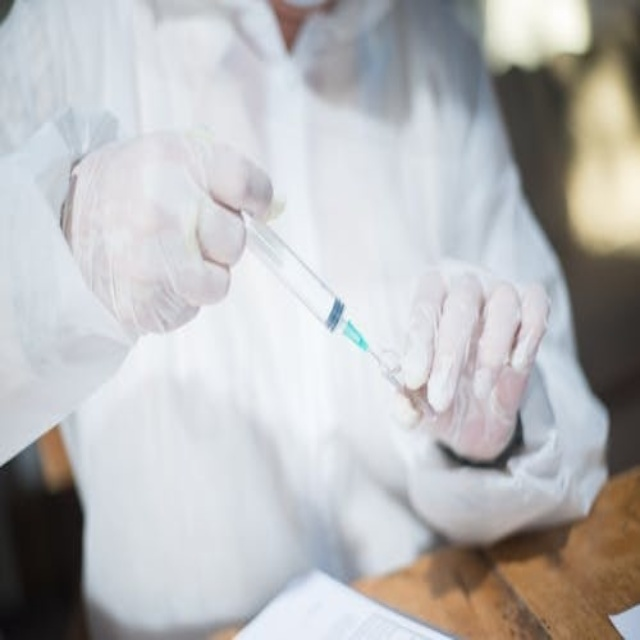Guantes: (62, 124, 274, 342), (385, 259, 551, 464)
